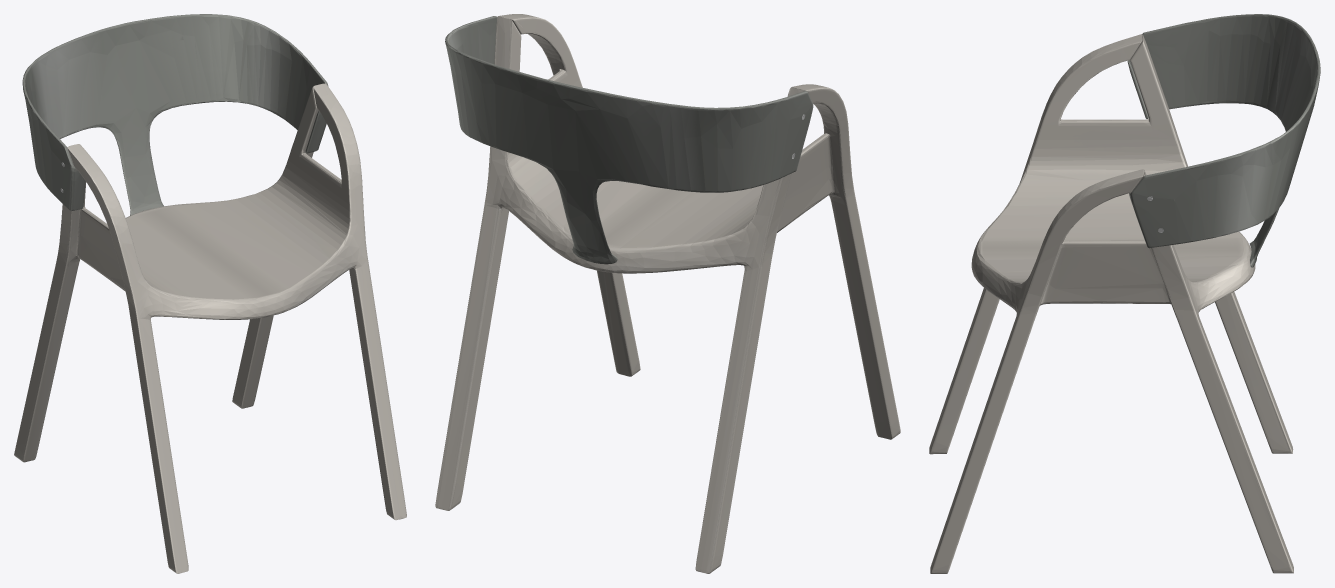
3 views of the same model, side by side, from view 1: azimuth 30°, elevation 25°; view 2: azimuth 150°, elevation 25°; view 3: azimuth 270°, elevation 25° (orthographic). The views are drawn at different scales.
Parts seen in each view (by area): view 1: solid_001_wire; view 2: solid_001_wire; view 3: solid_001_wire.
Part boxes in pixels (x1,y1,x2,y2): solid_001_wire: (14,14,406,573); solid_001_wire: (435,14,900,573); solid_001_wire: (929,14,1320,573).
Size of the model in its own units: 0.538 by 0.7642 by 0.6119.
1 material, 1 textured.
